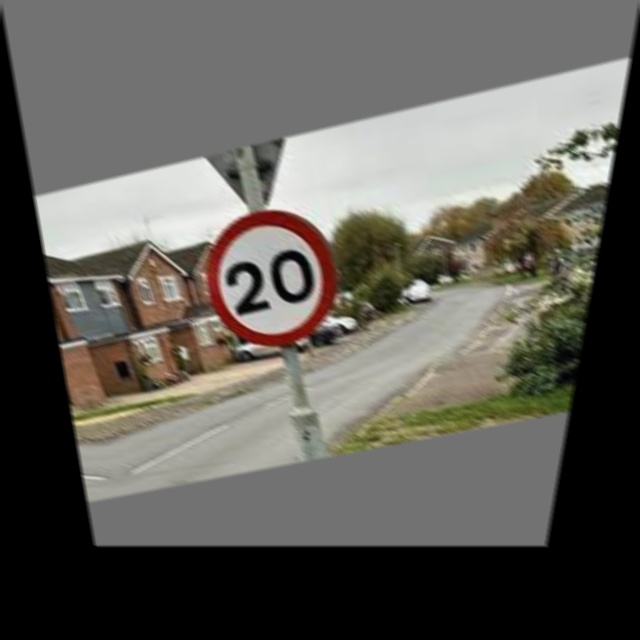Speed_Limit_20: (188, 196, 347, 353)
